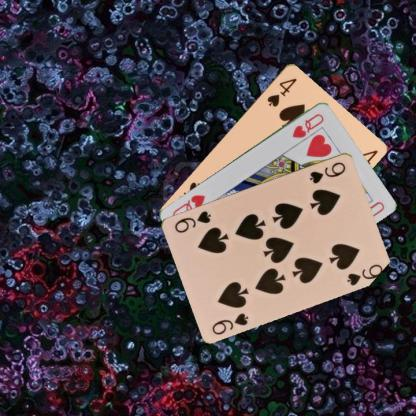4s: (264, 75, 298, 108)
9s: (209, 310, 250, 336), (307, 159, 347, 185)
Qh: (290, 110, 326, 140)
